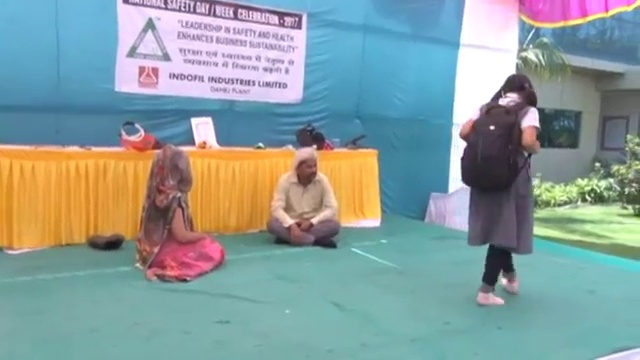helmet_off: (151, 145, 193, 192), (496, 71, 536, 103), (295, 147, 319, 182)
person: (459, 70, 544, 306), (133, 144, 225, 284), (265, 147, 341, 247)
